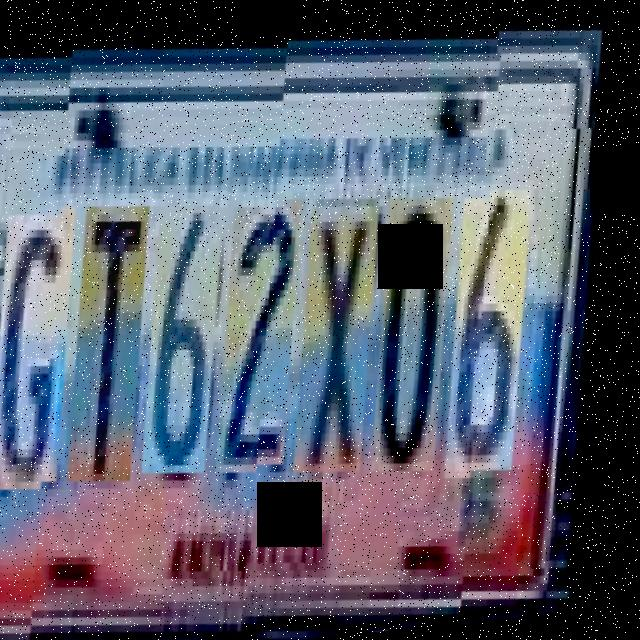2: (204, 186, 336, 464)
6: (431, 179, 566, 472), (130, 189, 258, 465)
G: (0, 193, 111, 477)
O: (359, 182, 487, 466)
T: (56, 191, 184, 474)
X: (281, 184, 414, 468)
